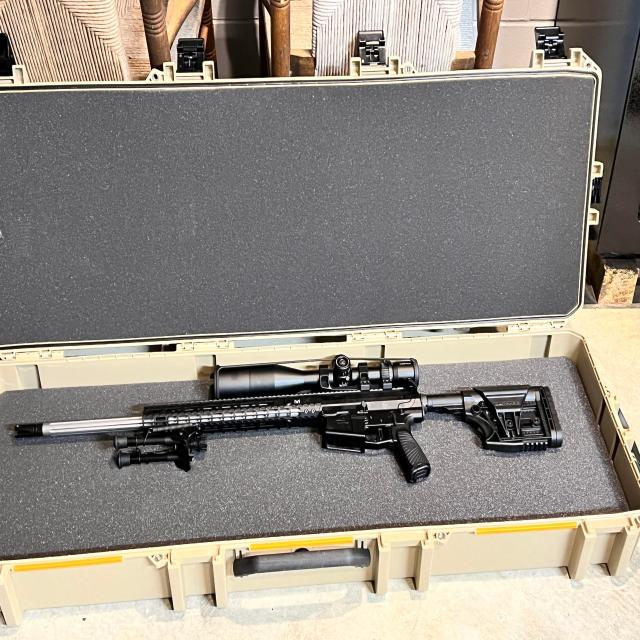Rifle: (13, 355, 563, 485)
